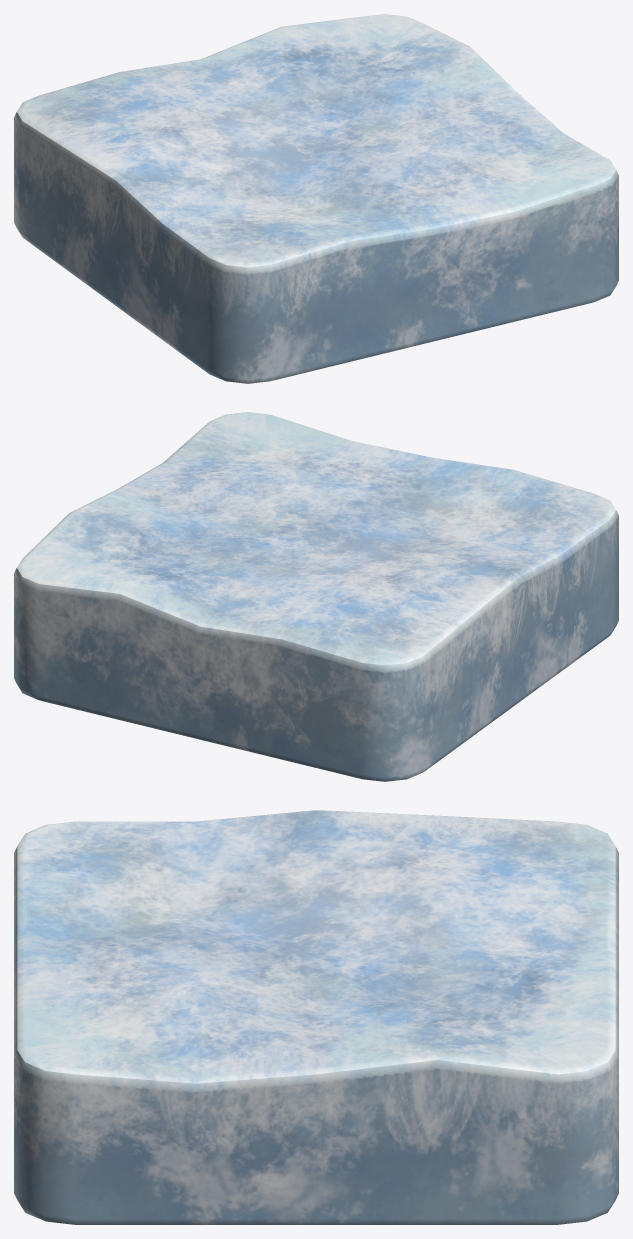
Rendered from 1stage.fbx.
The picture shows the model from 3 angles, top to bottom: view 1: azimuth 30°, elevation 25°; view 2: azimuth 150°, elevation 25°; view 3: azimuth 270°, elevation 25°; orthographic projection. The views are drawn at different scales.
Parts seen in each view (by area): view 1: pCube535; view 2: pCube535; view 3: pCube535.
Part boxes in pixels (x1,y1,x2,y2): pCube535: (14,14,618,383); pCube535: (14,412,618,781); pCube535: (14,810,618,1224).
Bounding box in the file's own units: 7 × 2.18 × 7.
Materials: 1 (1 with a texture image).
